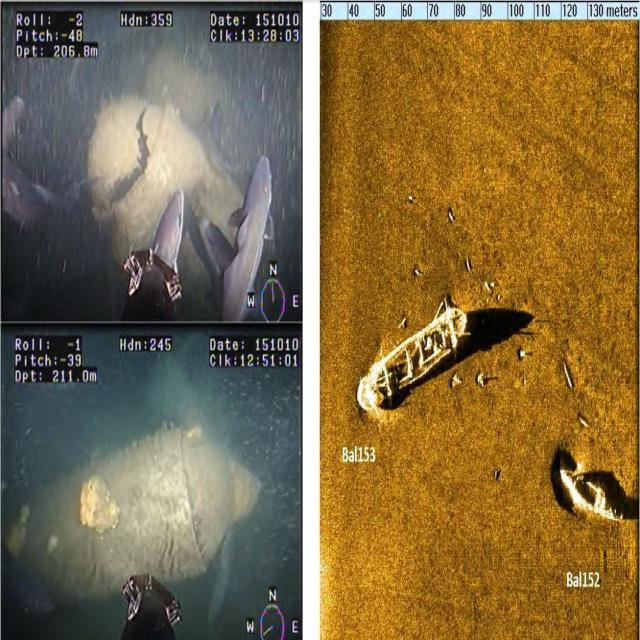shipwreck: (358, 305, 470, 410), (557, 462, 626, 530)
